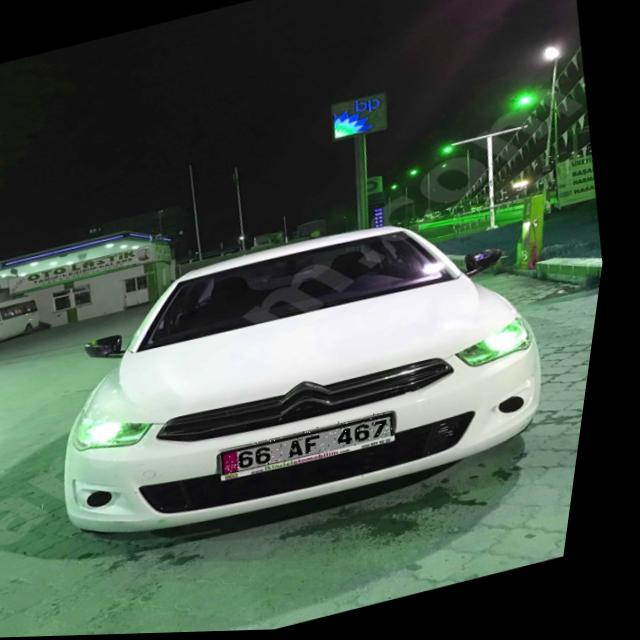license_plate: (230, 411, 409, 480)
